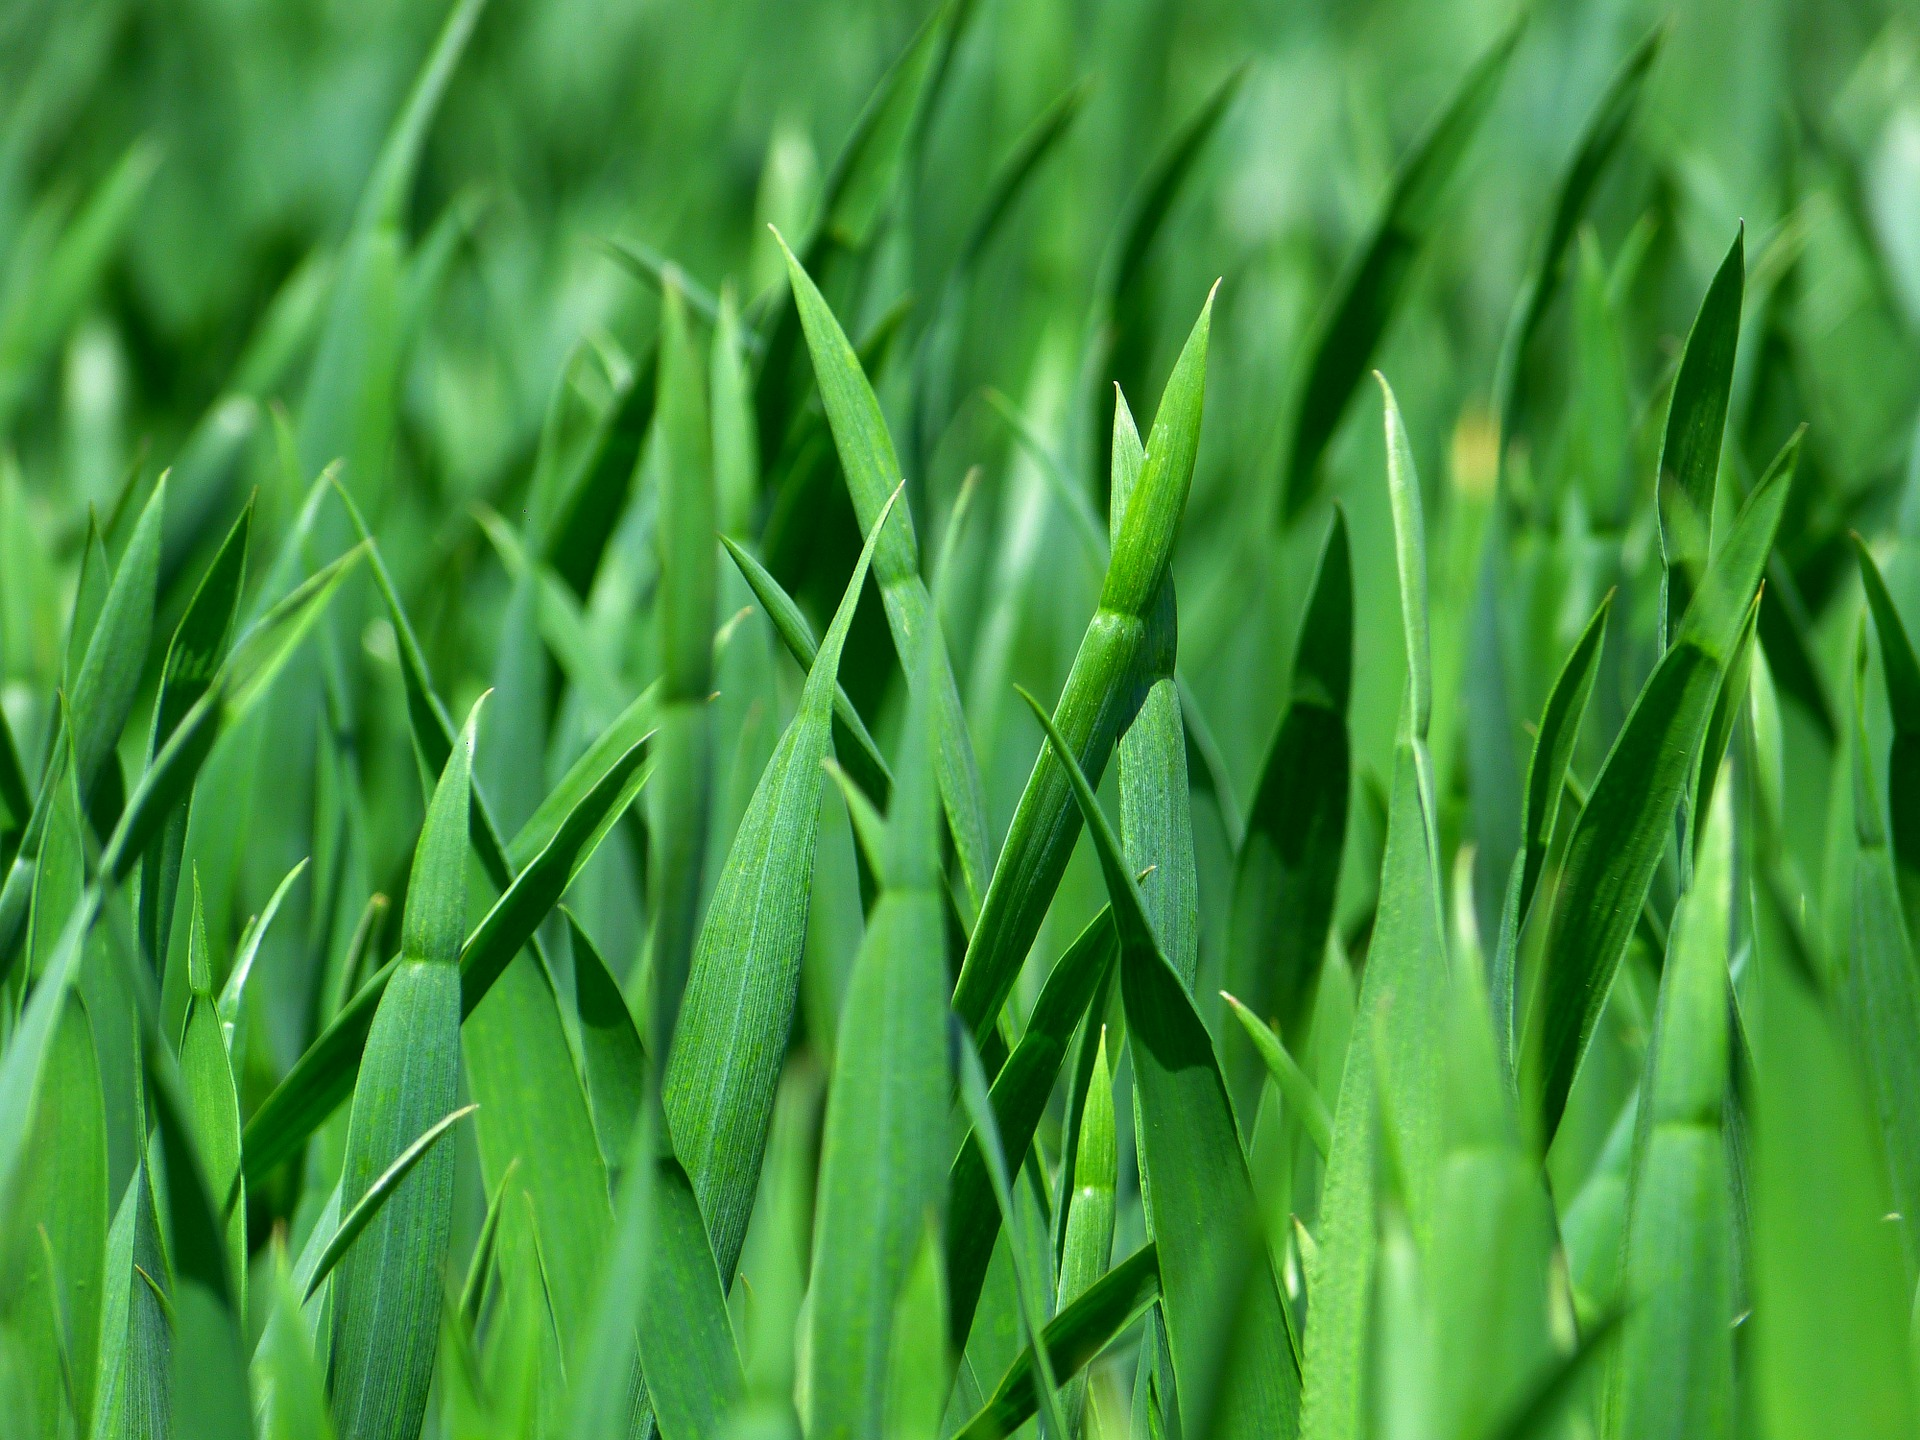grass: (14, 274, 1920, 1434)
